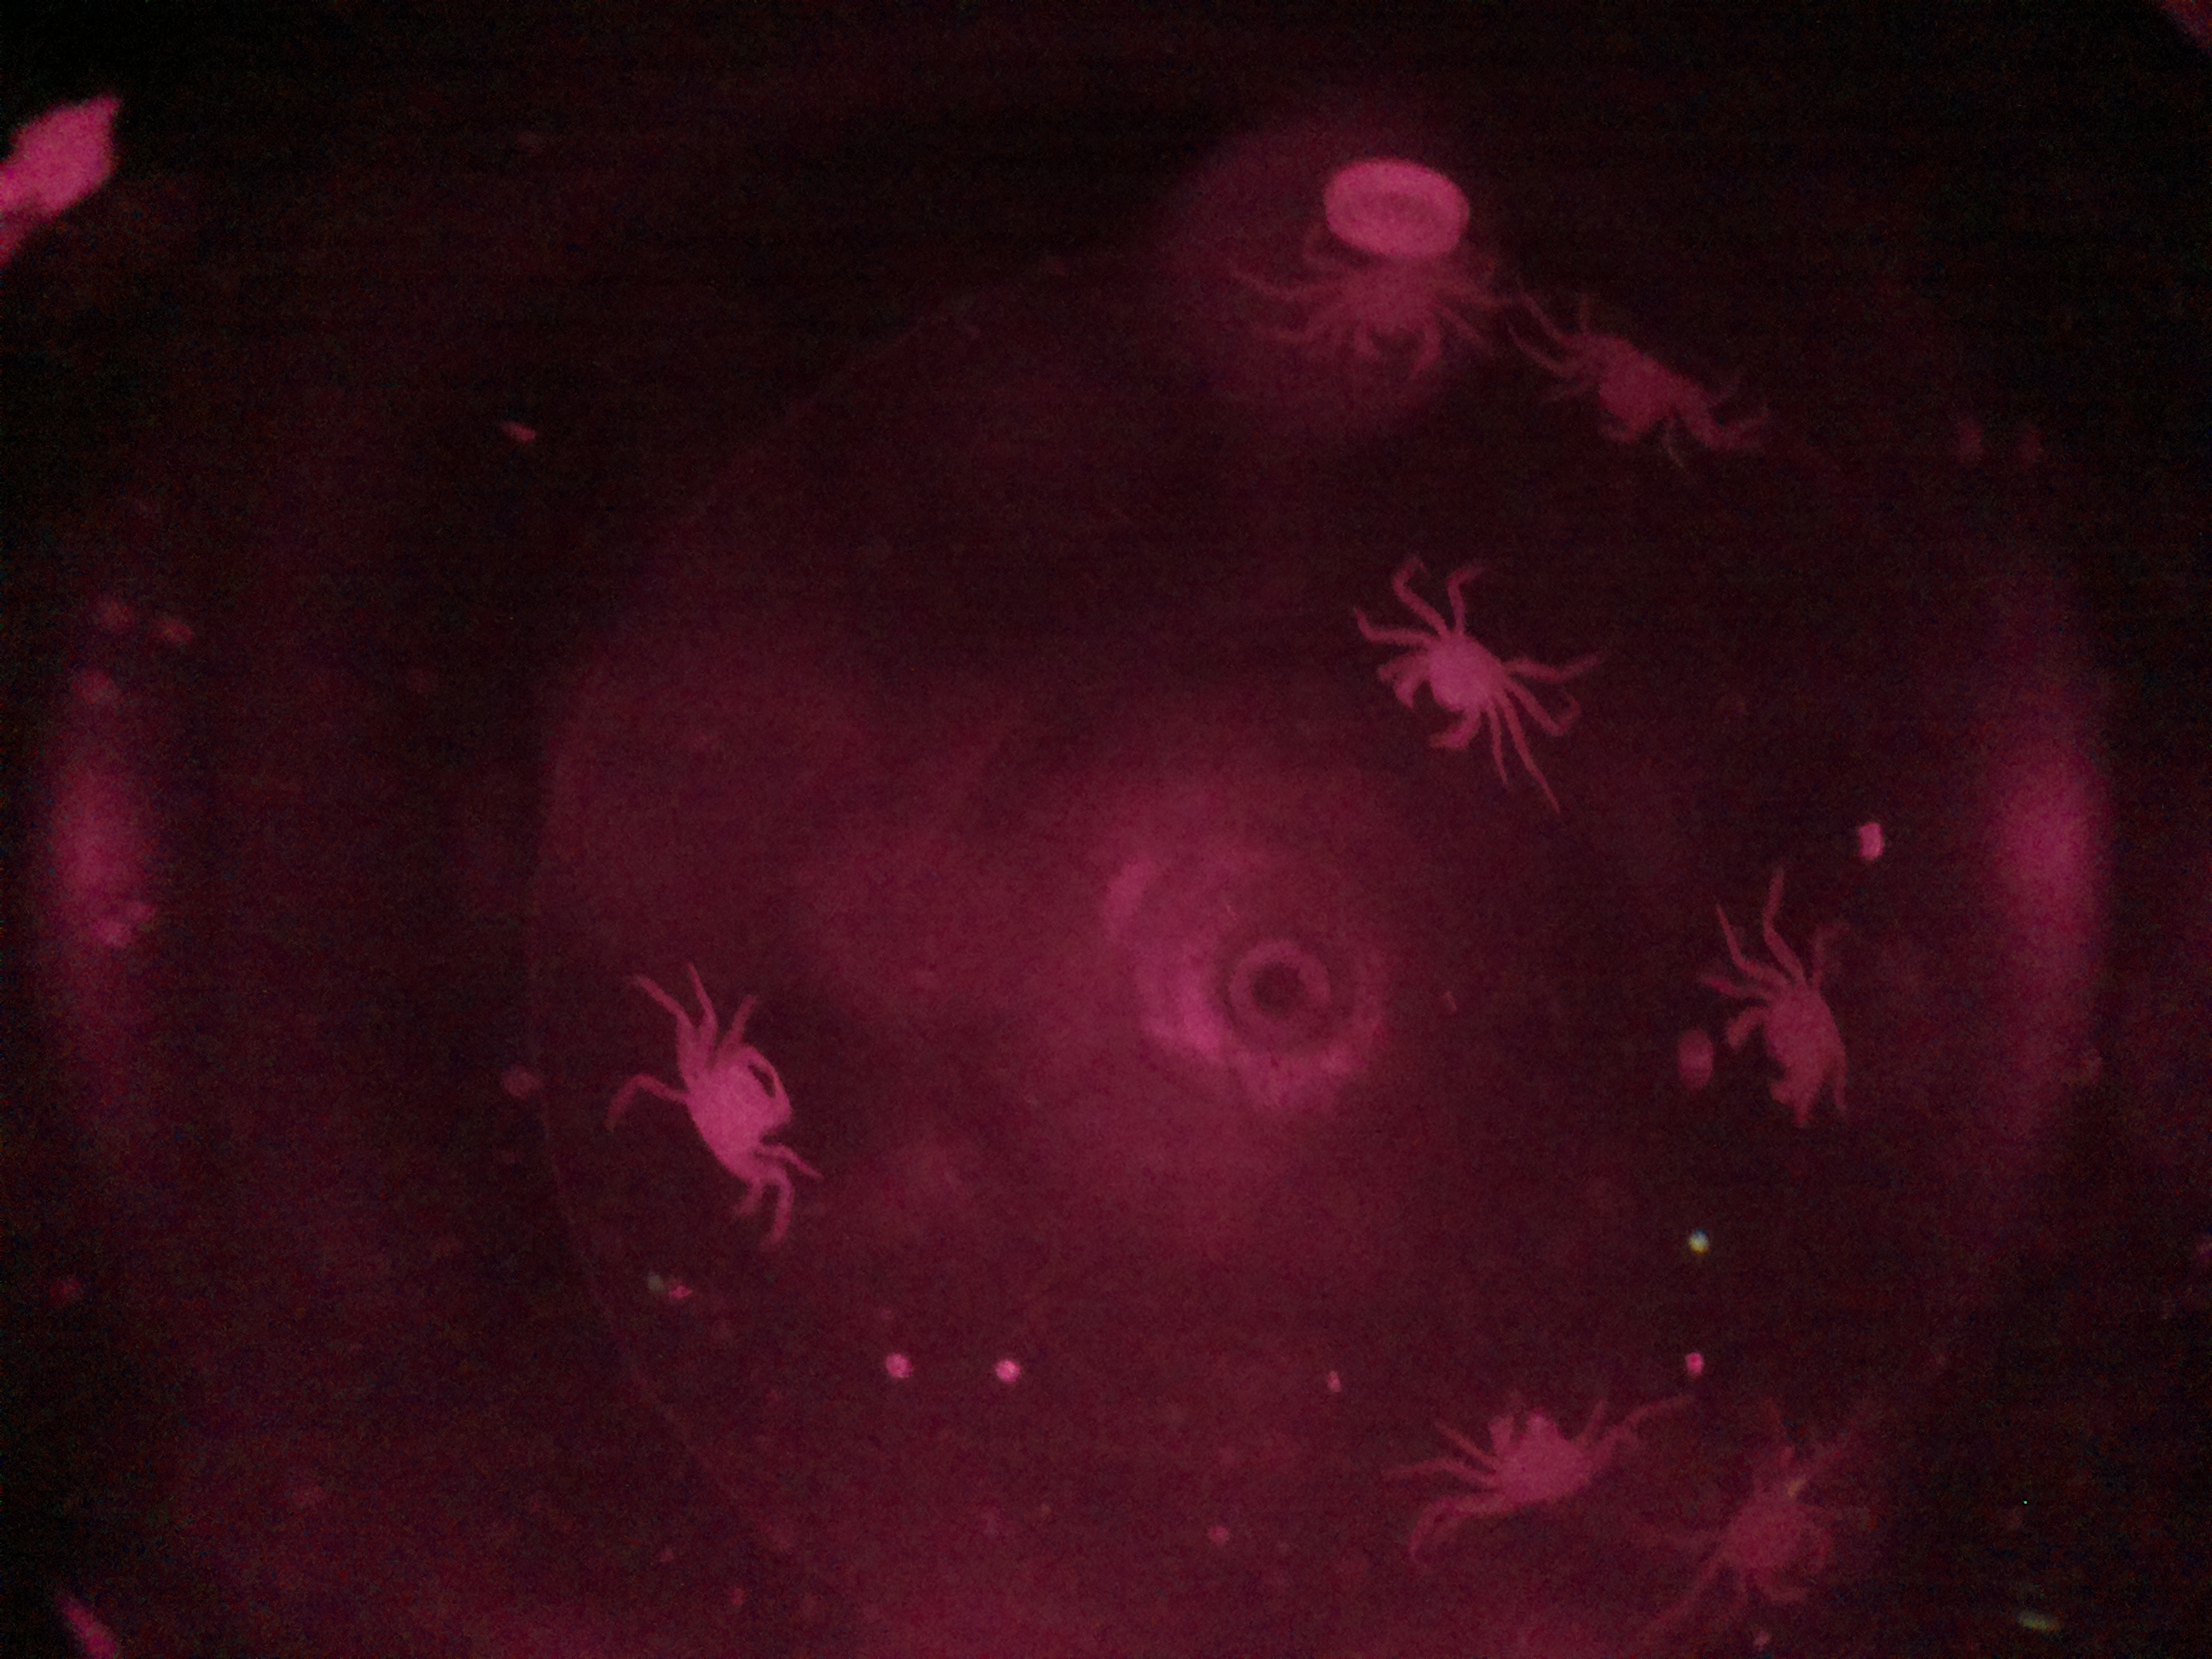Crab: (610, 1011, 824, 1215), (1705, 938, 1879, 1141), (1301, 232, 1503, 403), (1379, 579, 1538, 784), (1430, 1384, 1615, 1553), (1686, 1466, 1846, 1619)
